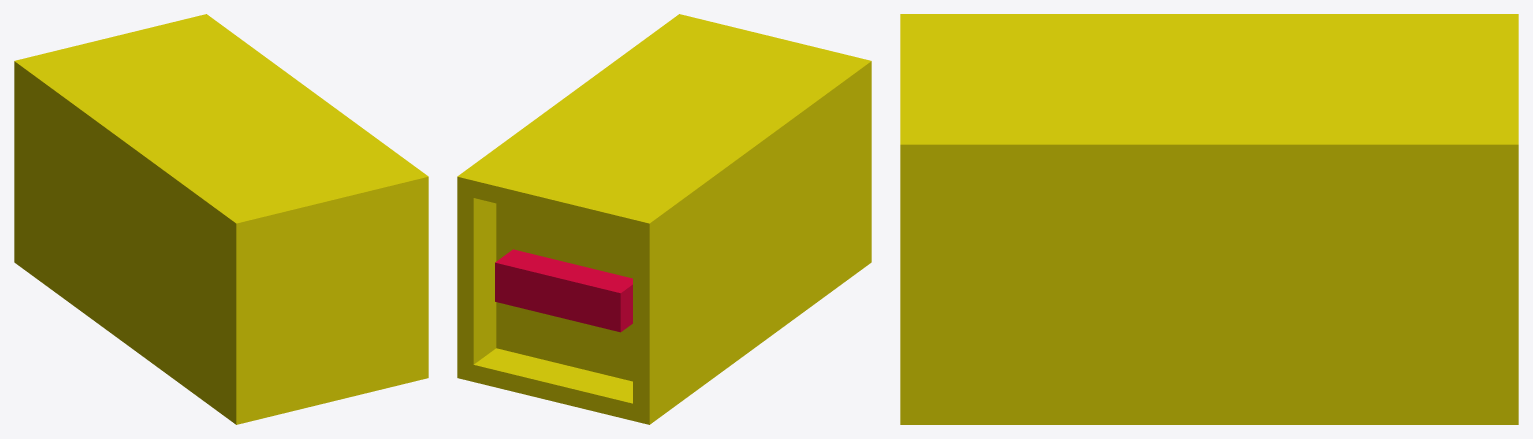
File: lvl2_groundMiddle.fbx
3 renders of one model, left to right at view 1: azimuth 30°, elevation 25°; view 2: azimuth 150°, elevation 25°; view 3: azimuth 270°, elevation 25°, orthographic. The views are drawn at different scales.
Parts seen in each view (by area): view 1: polySurface4; view 2: polySurface4; view 3: polySurface4.
Part boxes in pixels (x1=…): polySurface4: x1=14, y1=14, x2=428, y2=424; polySurface4: x1=457, y1=14, x2=871, y2=424; polySurface4: x1=900, y1=14, x2=1518, y2=424.
Size of the model in its own units: 100 by 100 by 200.
